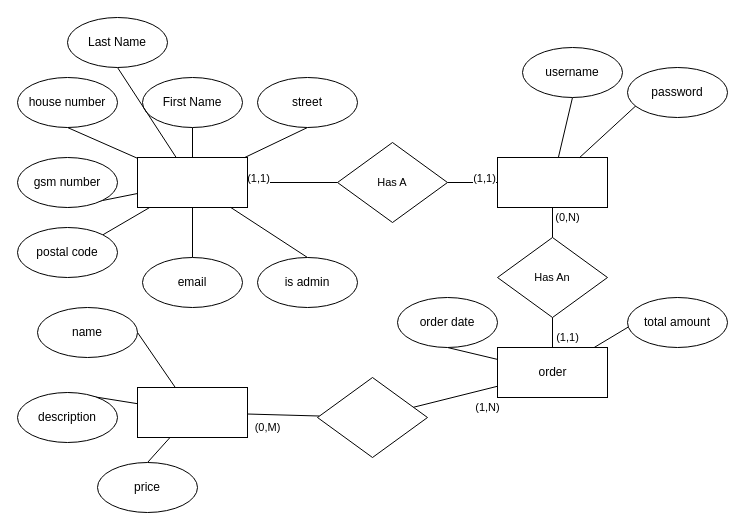
The diagram is 745 pixels wide and 530 high, and some of its shapes have lost their labels. The shapes that lost their labels are listed below. From the top down, each one's centre as x and y in pixels, then its label:
At [192,182]: "Profile".
At [552,182]: "user".
At [192,412]: "Product".
At [372,417]: "Has".
